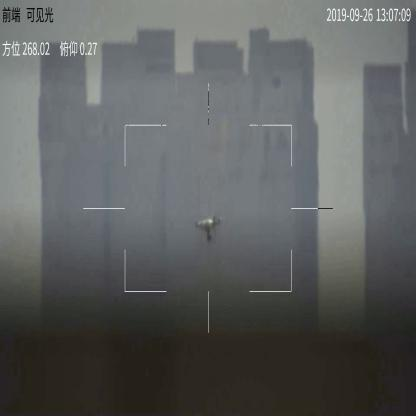uav: (187, 218, 226, 249)
